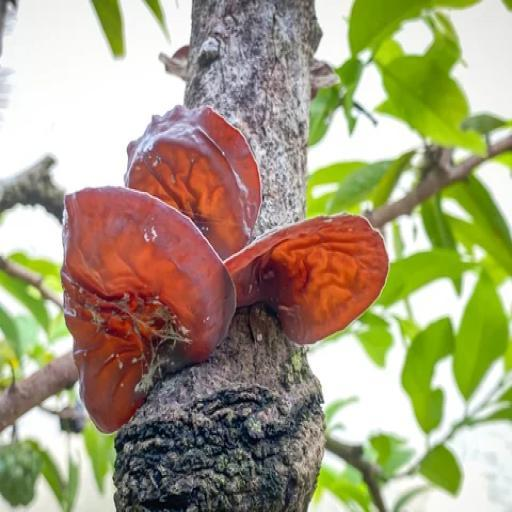mushroom: (60, 102, 393, 439)
